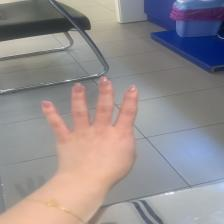four: (39, 74, 143, 182)
